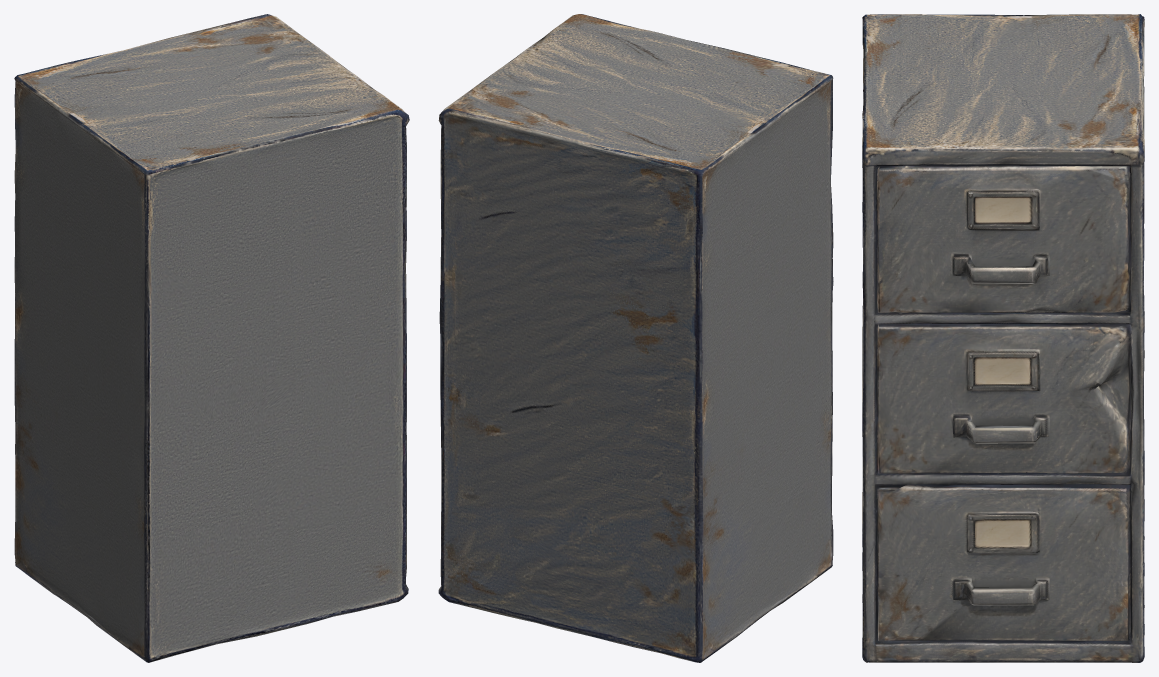
Rendered from FilingCabinet.fbx.
The picture shows the model from 3 angles, left to right: view 1: azimuth 30°, elevation 25°; view 2: azimuth 150°, elevation 25°; view 3: azimuth 270°, elevation 25°; orthographic projection. The views are drawn at different scales.
Visible parts, largest first — view 1: tripo_node_093284ce-e86a-4584-9a31-6df8b0379fbb; view 2: tripo_node_093284ce-e86a-4584-9a31-6df8b0379fbb; view 3: tripo_node_093284ce-e86a-4584-9a31-6df8b0379fbb.
Boxes of the visible parts, bbox=[...] form: tripo_node_093284ce-e86a-4584-9a31-6df8b0379fbb: bbox=[14, 14, 409, 662]; tripo_node_093284ce-e86a-4584-9a31-6df8b0379fbb: bbox=[438, 14, 833, 662]; tripo_node_093284ce-e86a-4584-9a31-6df8b0379fbb: bbox=[862, 14, 1144, 662].
Bounding box in the file's own units: 59.56 × 100 × 49.29.
Materials: 1 (1 with a texture image).
